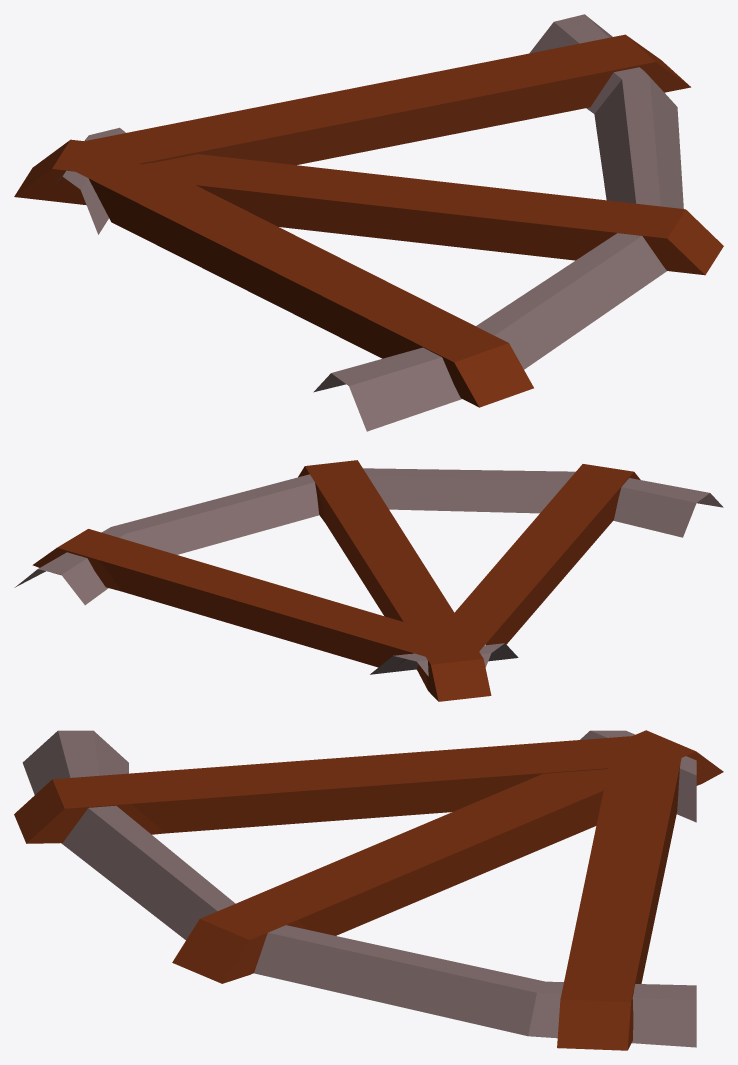
Rendered from Railcurve.obj.
3 renders of one model, top to bottom at view 1: azimuth 30°, elevation 25°; view 2: azimuth 150°, elevation 25°; view 3: azimuth 270°, elevation 25°, orthographic. The views are drawn at different scales.
Parts seen in each view (by area): view 1: Cube.002; view 2: Cube.002; view 3: Cube.002.
Boxes of the visible parts, <box> form: Cube.002: <box>14,14,723,431</box>; Cube.002: <box>14,460,723,701</box>; Cube.002: <box>14,730,723,1050</box>.
Bounding box in the file's own units: 5.03 × 0.2654 × 5.
